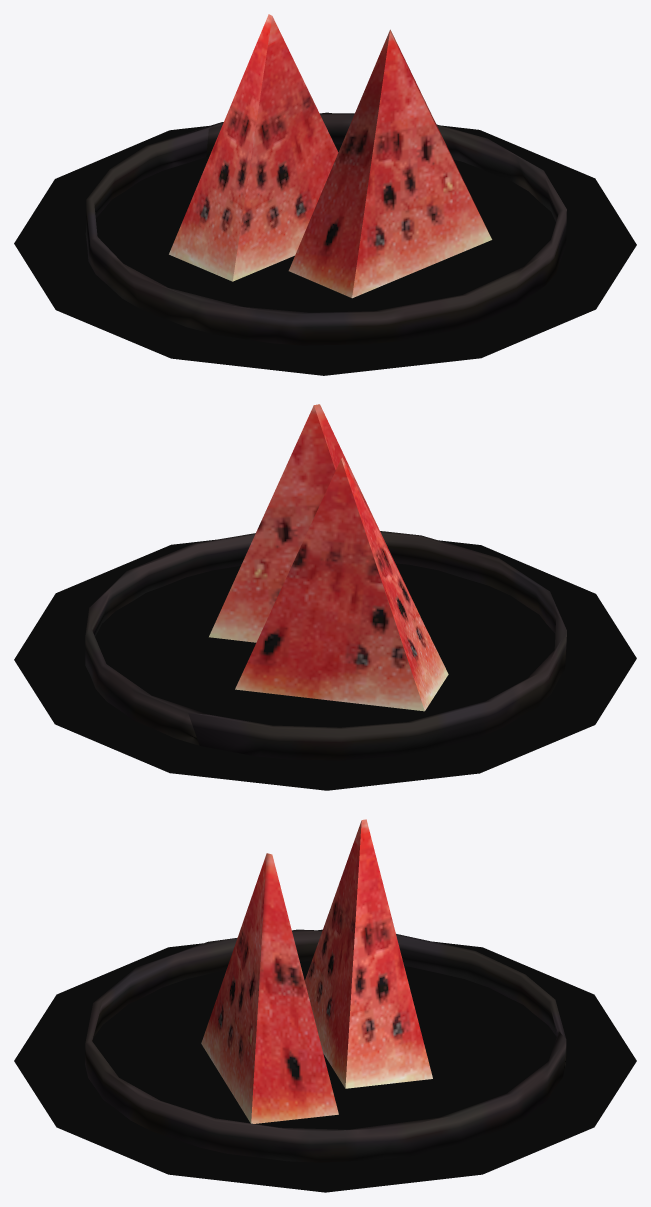
Rendered from jj_rixi_guopan01.FBX.
The picture shows the model from 3 angles, top to bottom: view 1: azimuth 30°, elevation 25°; view 2: azimuth 150°, elevation 25°; view 3: azimuth 270°, elevation 25°; orthographic projection.
Visible parts, largest first — view 1: jj_rixi_guopan01, shadow; view 2: jj_rixi_guopan01, shadow; view 3: jj_rixi_guopan01, shadow.
Boxes of the visible parts, x1,y1,x2,y2 form: jj_rixi_guopan01: (85, 14, 566, 345); shadow: (14, 112, 636, 375); jj_rixi_guopan01: (85, 404, 566, 760); shadow: (14, 539, 636, 790); jj_rixi_guopan01: (85, 819, 566, 1162); shadow: (14, 929, 636, 1192).
Bounding box in the file's own units: 44.98 × 19.09 × 44.98.
